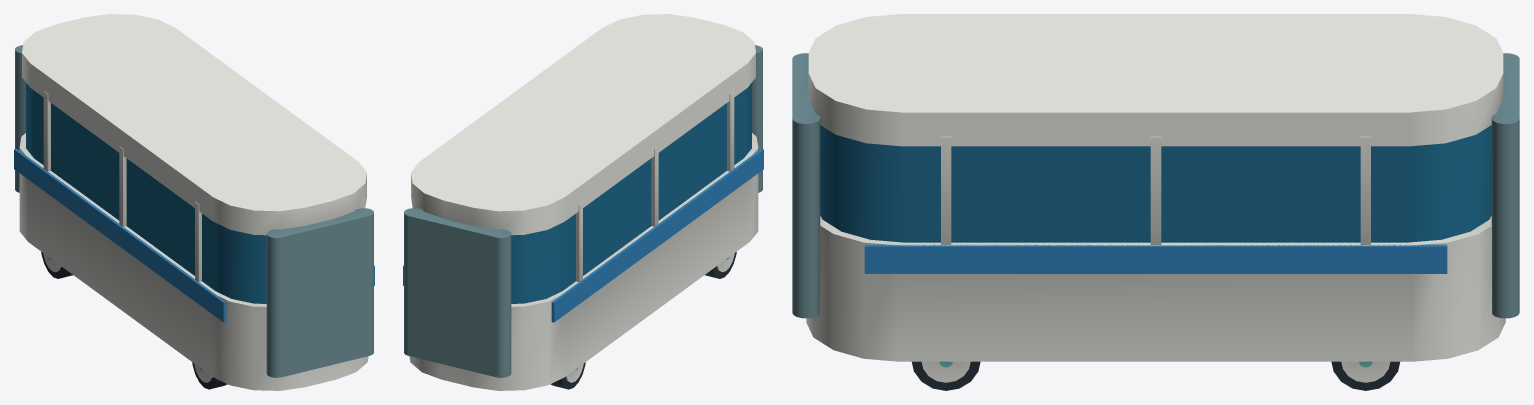
The model's file is train-carriage-low.glb.
3 views of the same model, side by side, from view 1: azimuth 30°, elevation 25°; view 2: azimuth 150°, elevation 25°; view 3: azimuth 270°, elevation 25° (orthographic). The views are drawn at different scales.
Parts seen in each view (by area): view 1: train lower shell, articulated bellows, train panorama, train blue ribbon, electric tire; view 2: train lower shell, articulated bellows, train panorama, train blue ribbon, electric tire; view 3: train lower shell, train panorama, train blue ribbon, articulated bellows, electric tire.
Boxes of the visible parts, <box> form: train lower shell: <box>19,14,368,390</box>; articulated bellows: <box>15,45,373,377</box>; train panorama: <box>26,83,266,303</box>; train blue ribbon: <box>14,149,374,322</box>; electric tire: <box>41,252,227,389</box>; train lower shell: <box>409,14,758,390</box>; articulated bellows: <box>404,45,762,377</box>; train panorama: <box>511,83,751,303</box>; train blue ribbon: <box>403,149,763,322</box>; electric tire: <box>550,252,736,389</box>; train lower shell: <box>806,14,1505,382</box>; train panorama: <box>820,125,1491,242</box>; train blue ribbon: <box>864,244,1447,273</box>; articulated bellows: <box>792,53,1519,318</box>; electric tire: <box>912,361,1399,390</box>.
Size of the model in its own units: 1.04 by 1.34 by 3.12.
